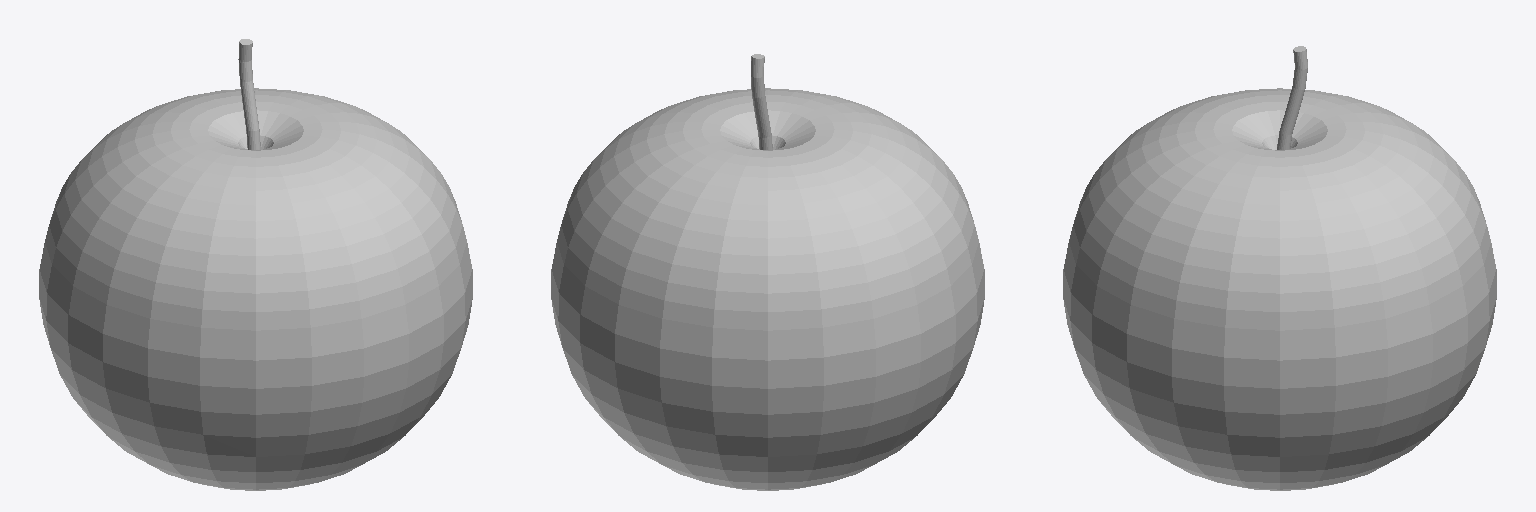
File: melon.obj
The picture shows the model from 3 angles: view 1: azimuth 30°, elevation 25°; view 2: azimuth 150°, elevation 25°; view 3: azimuth 270°, elevation 25°; orthographic projection.
Visible parts, largest first — view 1: Mesh2 apple1 apple1_1 _Apples1 Model, Mesh1 stem1 apple1_1 _Apples1 Model; view 2: Mesh2 apple1 apple1_1 _Apples1 Model, Mesh1 stem1 apple1_1 _Apples1 Model; view 3: Mesh2 apple1 apple1_1 _Apples1 Model, Mesh1 stem1 apple1_1 _Apples1 Model.
Part boxes in pixels (left/top/right/bottom): Mesh2 apple1 apple1_1 _Apples1 Model: left=39, top=88, right=472, bottom=490; Mesh1 stem1 apple1_1 _Apples1 Model: left=238, top=39, right=260, bottom=149; Mesh2 apple1 apple1_1 _Apples1 Model: left=551, top=88, right=984, bottom=490; Mesh1 stem1 apple1_1 _Apples1 Model: left=751, top=54, right=772, bottom=149; Mesh2 apple1 apple1_1 _Apples1 Model: left=1063, top=88, right=1496, bottom=490; Mesh1 stem1 apple1_1 _Apples1 Model: left=1277, top=46, right=1307, bottom=149.
Bounding box in the file's own units: 0.0712 × 0.0751 × 0.0712.